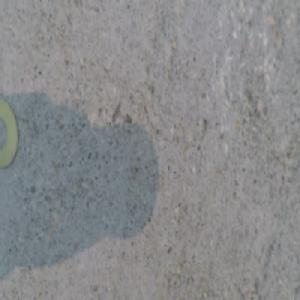Washer: (0, 101, 19, 168)
